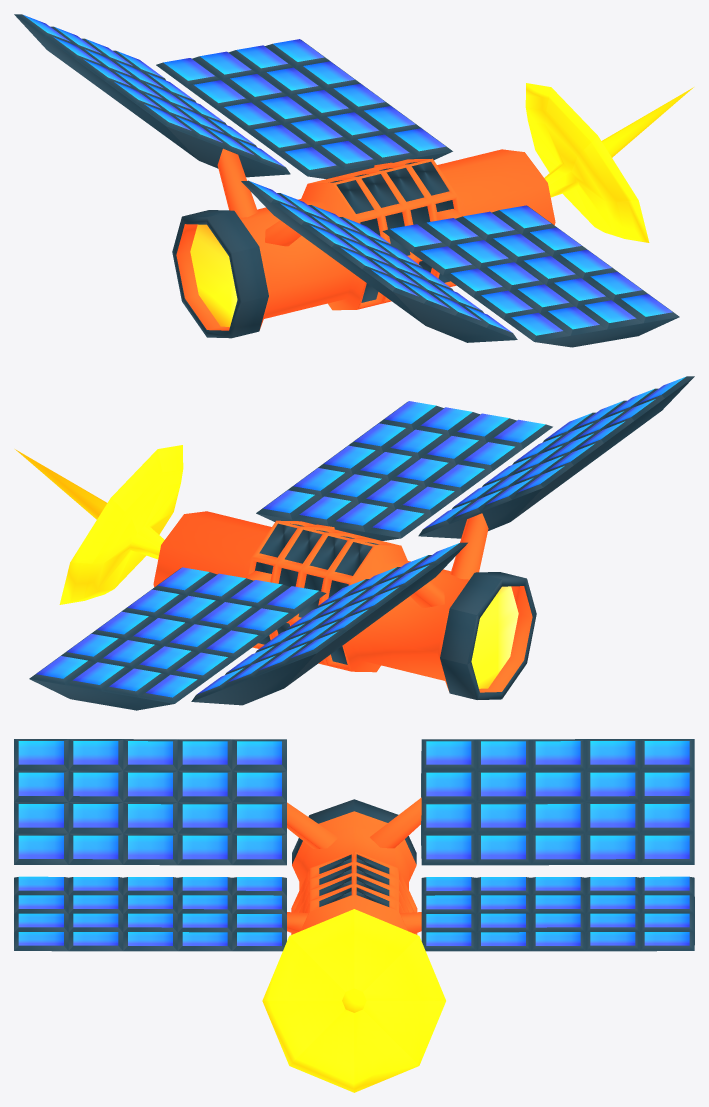
The model's file is Satelite.fbx.
3 views of the same model, one above another, from view 1: azimuth 30°, elevation 25°; view 2: azimuth 150°, elevation 25°; view 3: azimuth 270°, elevation 25° (orthographic). The views are drawn at different scales.
Visible parts, largest first — view 1: Satelite, SateliteFoguete; view 2: Satelite, SateliteFoguete; view 3: Satelite.
Part boxes in pixels (x1=…): Satelite: x1=14, y1=14, x2=693, y2=347; SateliteFoguete: x1=190, y1=224, x2=237, y2=326; Satelite: x1=15, y1=376, x2=694, y2=710; SateliteFoguete: x1=471, y1=586, x2=518, y2=688; Satelite: x1=14, y1=739, x2=694, y2=1092.
Bounding box in the file's own units: 5.31 × 1.95 × 7.08.
